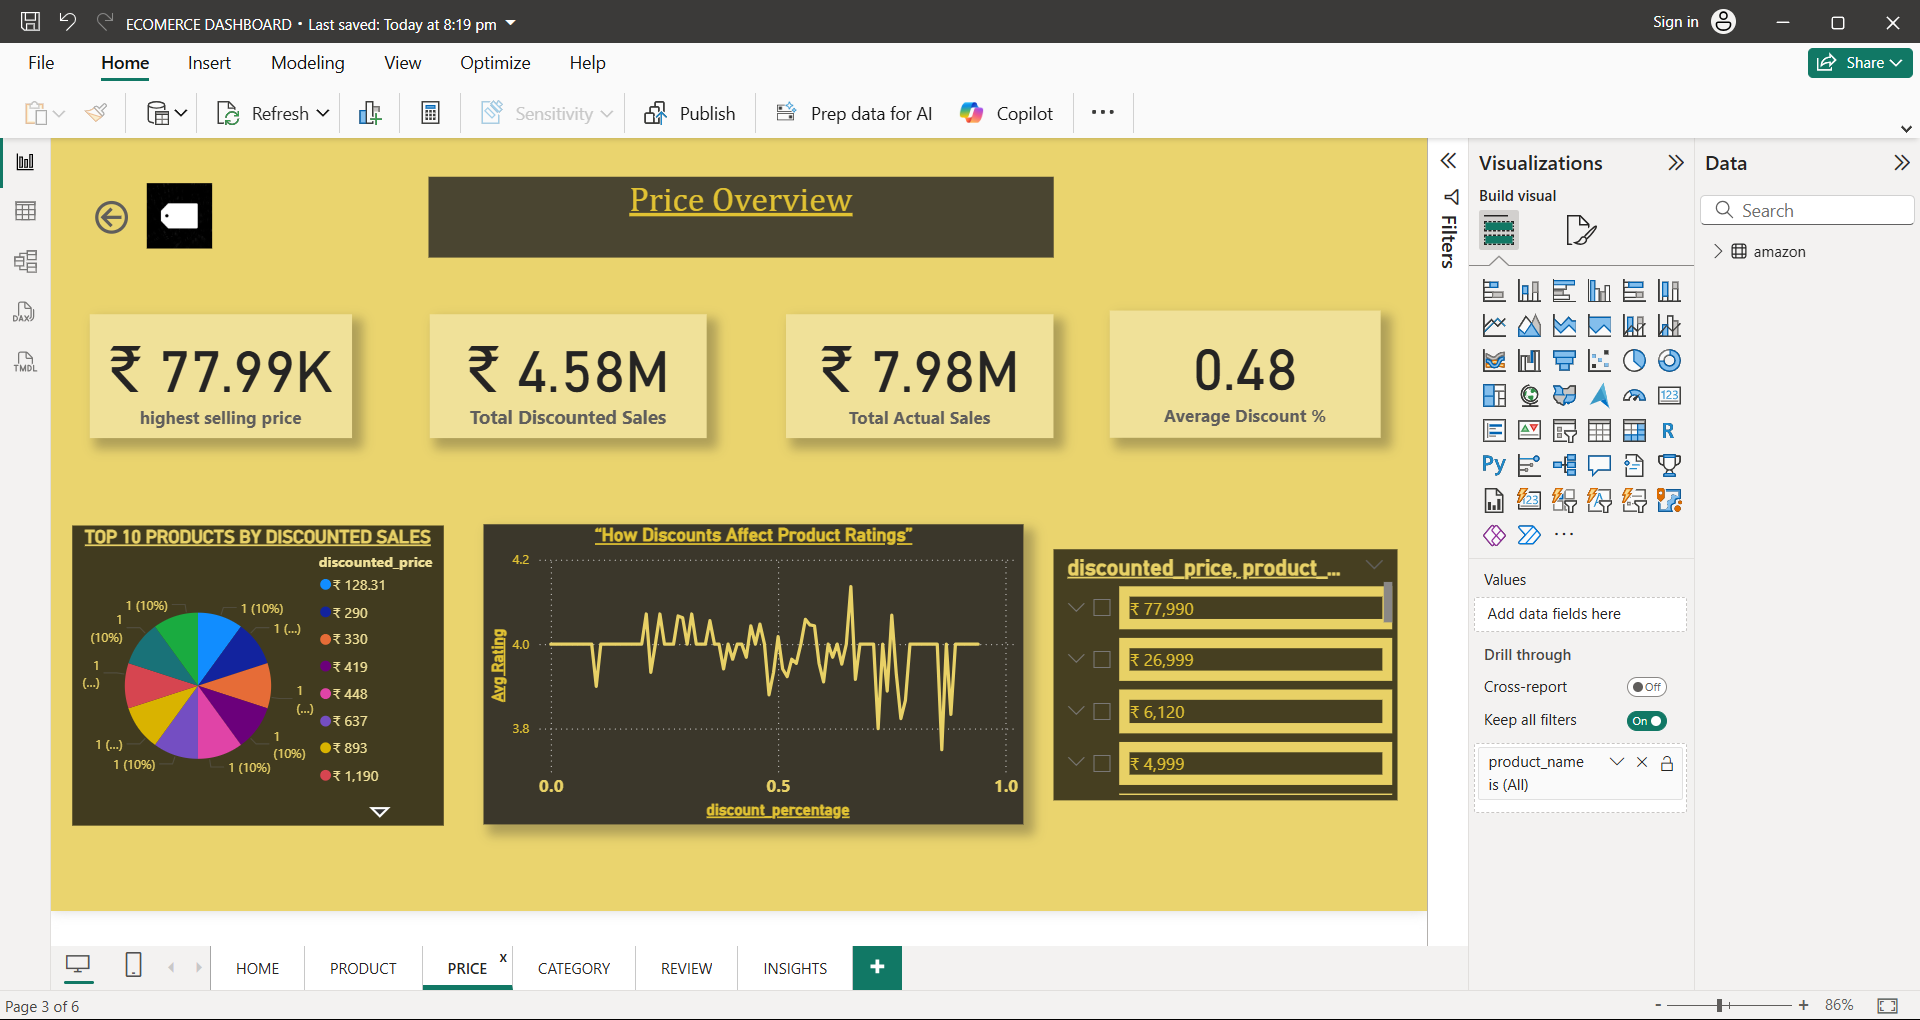

The dashboard page shown, as its layout file describes it:
{"tool":"powerbi","page":{"name":"PRICE","canvas":[1280,720],"ordinal":2},"visuals":[{"type":"card","title":"highest selling price","fields":{"Values":["amazon.Measure"]},"box":[35.5,164.2,243.7,115.1],"z":0},{"type":"card","fields":{"Values":["amazon.Total Discounted Sales"]},"box":[352.1,164.2,257.3,115.1],"z":1000},{"type":"card","fields":{"Values":["amazon.Total Actual Sales"]},"box":[683.9,164.2,248.8,115.1],"z":2000},{"type":"card","fields":{"Values":["amazon.Average Discount %"]},"box":[985.2,160.8,252.2,118.5],"z":3000},{"type":"pieChart","title":"TOP 10 PRODUCTS BY DISCOUNTED SALES","fields":{"Category":["amazon.discounted_price"],"Y":["CountNonNull(amazon.product_name)"]},"box":[20.3,360.5,345.3,279.3],"z":4000},{"type":"slicer","fields":{"Values":["amazon.discounted_price","amazon.product_name"]},"box":[932.7,382.6,319.9,233.6],"z":5000},{"type":"actionButton","box":[35.9,53.1,100,40.6],"z":6000},{"type":"lineChart","title":"“How Discounts Affect Product Ratings”","fields":{"Category":["amazon.discount_percentage"],"Y":["amazon.Avg Rating"]},"box":[402.9,358.9,502.7,279.3],"z":7000},{"type":"image","box":[78.1,37.5,82.8,70.3],"z":8000},{"type":"textbox","box":[351.6,35.9,581.3,75],"z":9000}]}

Visuals, with their boxes on the page's 1280x720 design canvas (x1, y1, x2, y2). These are canvas units, not pixel positions in the 1920x1020 screenshot, which may show the page scaled, cropped or inside an application window:
"highest selling price" card: 36/164/279/279
card - amazon.Total Discounted Sales: 352/164/609/279
card - amazon.Total Actual Sales: 684/164/933/279
card - amazon.Average Discount %: 985/161/1237/279
"TOP 10 PRODUCTS BY DISCOUNTED SALES" pieChart: 20/360/366/640
slicer - amazon.discounted_price x amazon.product_name: 933/383/1253/616
actionButton: 36/53/136/94
"“How Discounts Affect Product Ratings”" lineChart: 403/359/906/638
image: 78/38/161/108
textbox: 352/36/933/111
